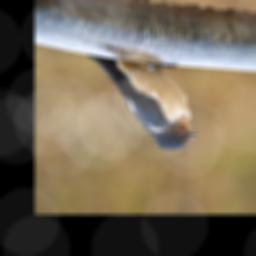Swallow: (87, 54, 199, 151)
